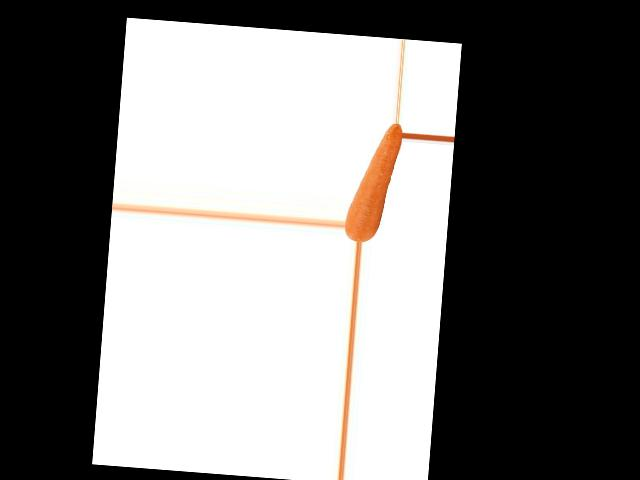carrot: (344, 121, 402, 245)
